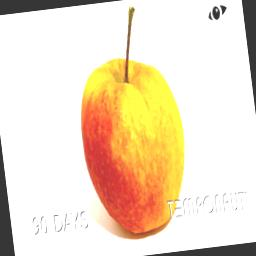Apple Overripe: (68, 4, 195, 242)
